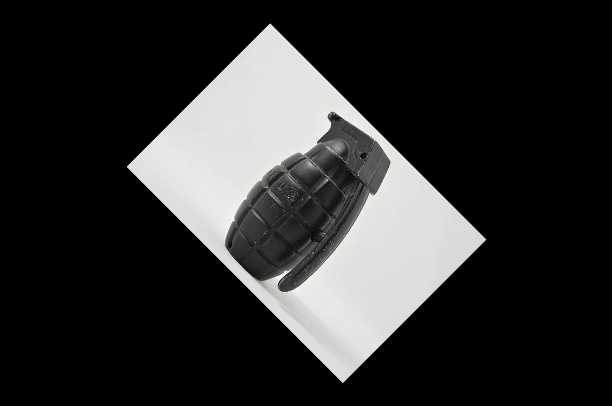e1: (223, 107, 394, 294)
